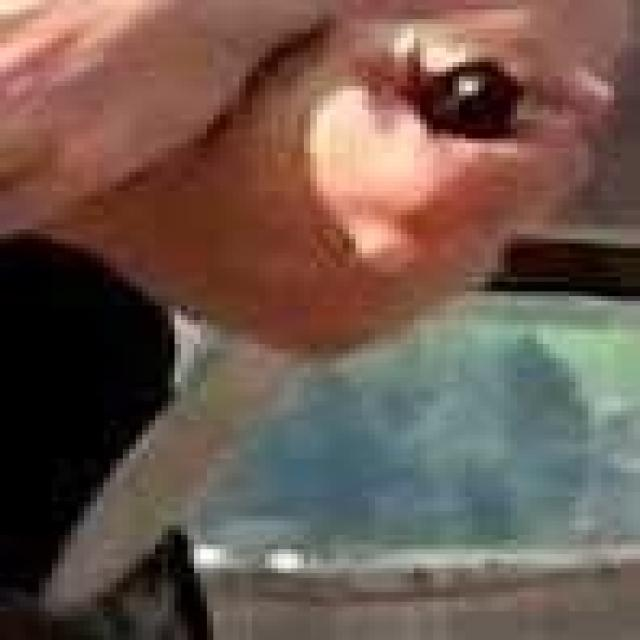knife: (48, 58, 515, 623)
